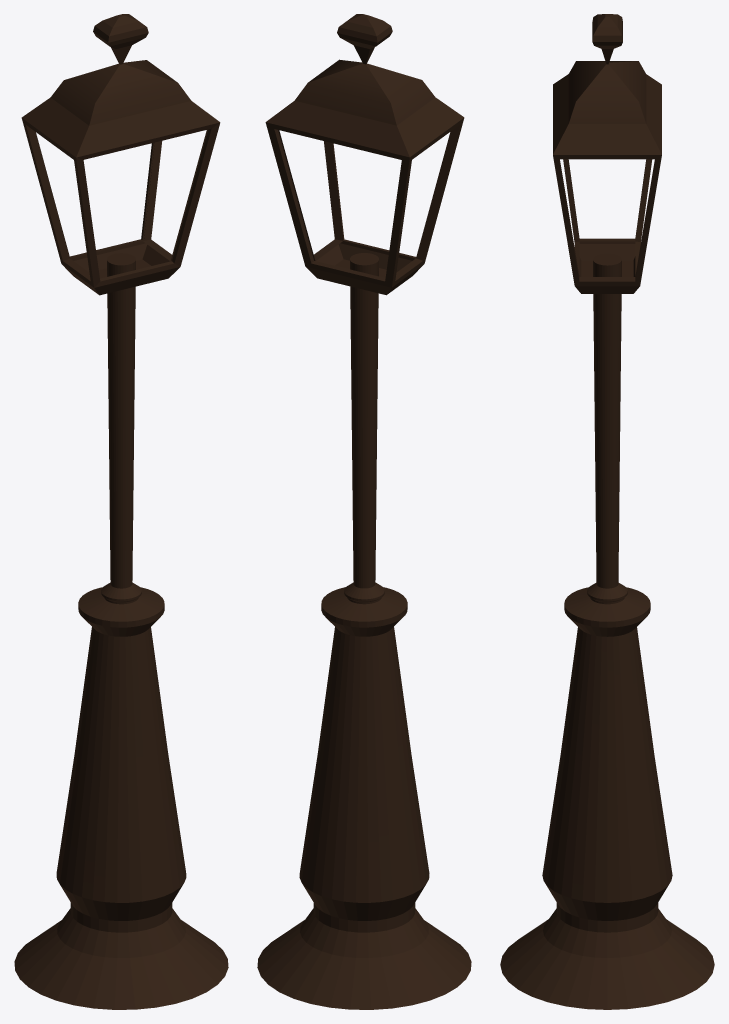
The model's file is Sokak Lambası 70 ler.fbx.
3 views of the same model, side by side, from view 1: azimuth 30°, elevation 25°; view 2: azimuth 150°, elevation 25°; view 3: azimuth 270°, elevation 25° (orthographic).
Parts seen in each view (by area): view 1: Cylinder_Cylinder.002, Cube_Cube.008; view 2: Cylinder_Cylinder.002, Cube_Cube.008; view 3: Cylinder_Cylinder.002, Cube_Cube.008.
Boxes of the visible parts, x1,y1,x2,y2 form: Cylinder_Cylinder.002: [14, 253, 228, 1009]; Cube_Cube.008: [21, 14, 220, 295]; Cylinder_Cylinder.002: [257, 253, 471, 1009]; Cube_Cube.008: [265, 14, 464, 295]; Cylinder_Cylinder.002: [500, 253, 714, 1009]; Cube_Cube.008: [553, 14, 661, 293].
Bounding box in the file's own units: 293 × 1431 × 293.
